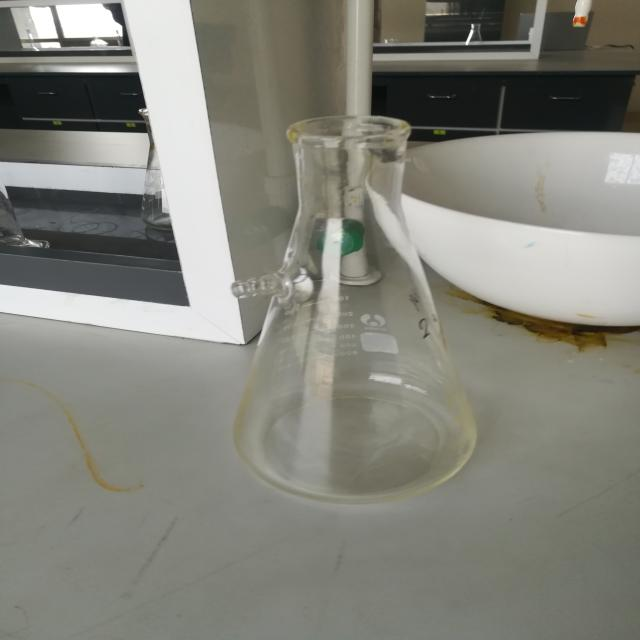Conical_Flask: (215, 50, 510, 536)
